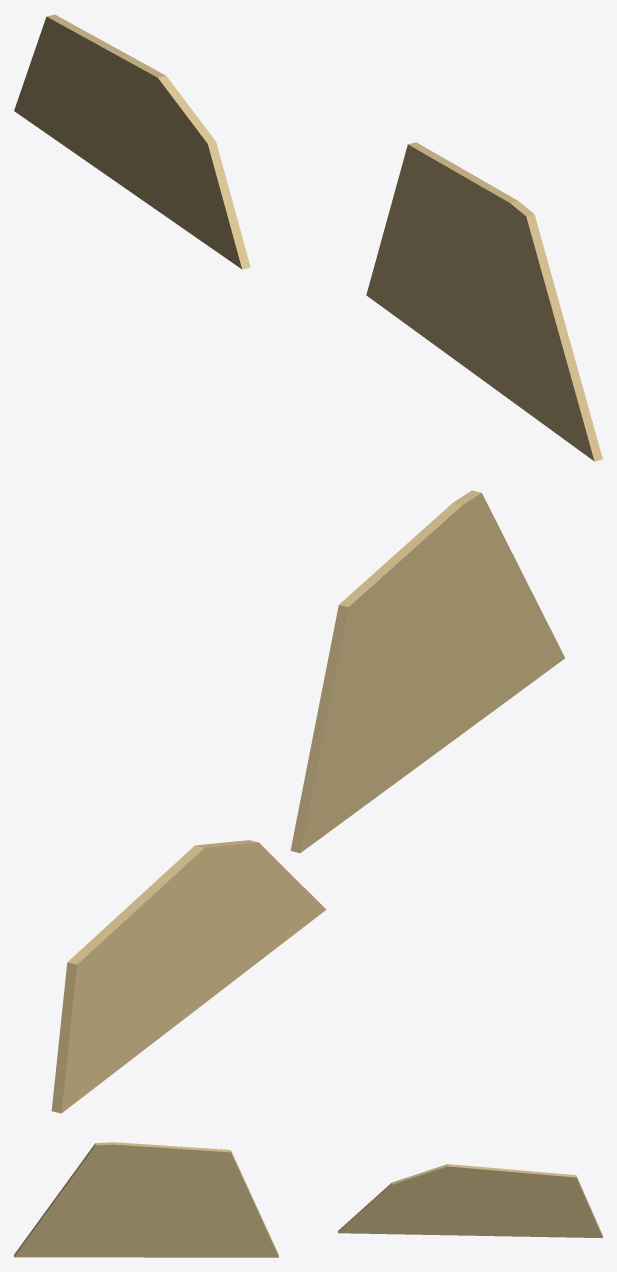
Rendered from shape down 1.fbx.
The picture shows the model from 3 angles, top to bottom: view 1: azimuth 30°, elevation 25°; view 2: azimuth 150°, elevation 25°; view 3: azimuth 270°, elevation 25°; orthographic projection. The views are drawn at different scales.
Visible parts, largest first — view 1: Plane.094, Plane.093; view 2: Plane.094, Plane.093; view 3: Plane.094, Plane.093.
Boxes of the visible parts, box(x1,y1,x2,y2) form: Plane.094: box(366, 142, 602, 461); Plane.093: box(14, 14, 250, 269); Plane.094: box(290, 490, 564, 853); Plane.093: box(51, 840, 326, 1113); Plane.094: box(14, 1142, 278, 1257); Plane.093: box(338, 1164, 602, 1238).
Bounding box in the file's own units: 44.92 × 102 × 472.
